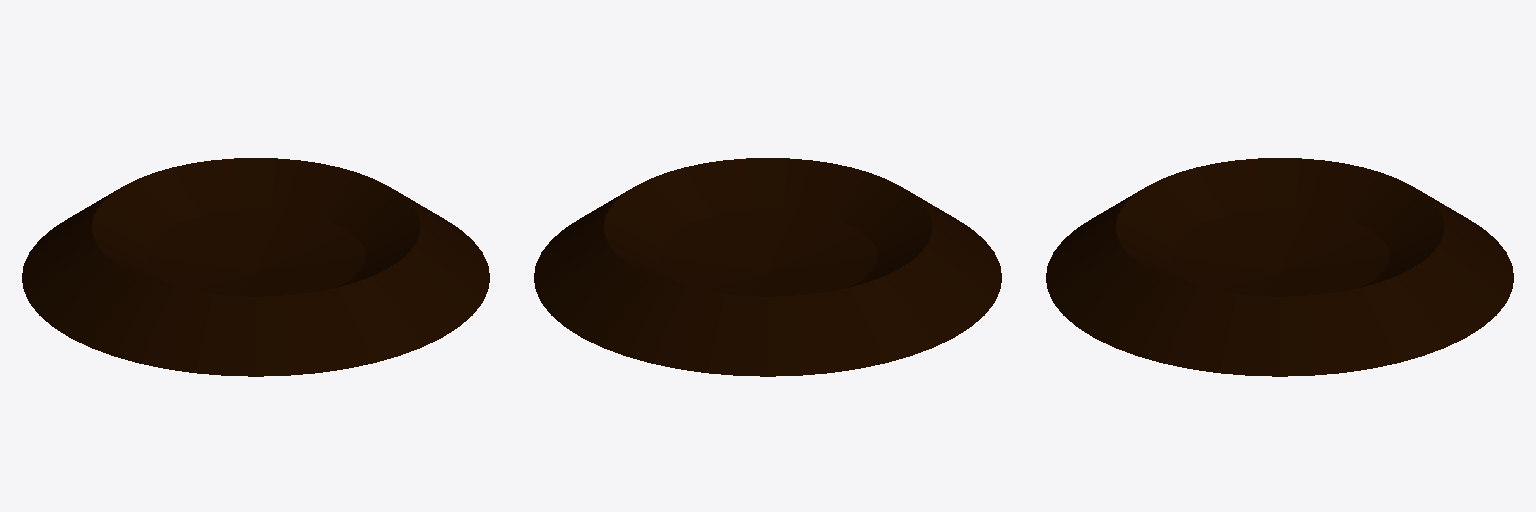
Rendered from wormhole.obj.
3 views of the same model, side by side, from view 1: azimuth 30°, elevation 25°; view 2: azimuth 150°, elevation 25°; view 3: azimuth 270°, elevation 25° (orthographic).
Parts seen in each view (by area): view 1: Torus.001; view 2: Torus.001; view 3: Torus.001.
Boxes of the visible parts, <box> form: Torus.001: <box>22,158,489,376</box>; Torus.001: <box>534,158,1001,376</box>; Torus.001: <box>1046,158,1513,376</box>.
Bounding box in the file's own units: 1.29 × 0.1737 × 1.29.